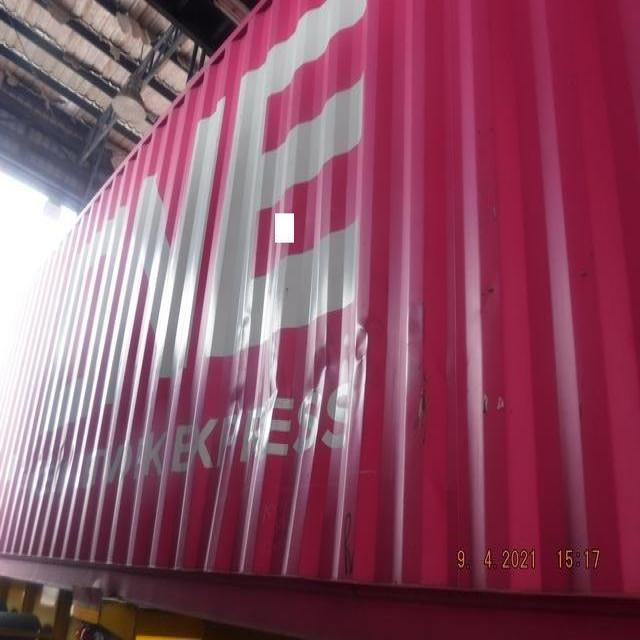dent: (217, 297, 443, 461)
